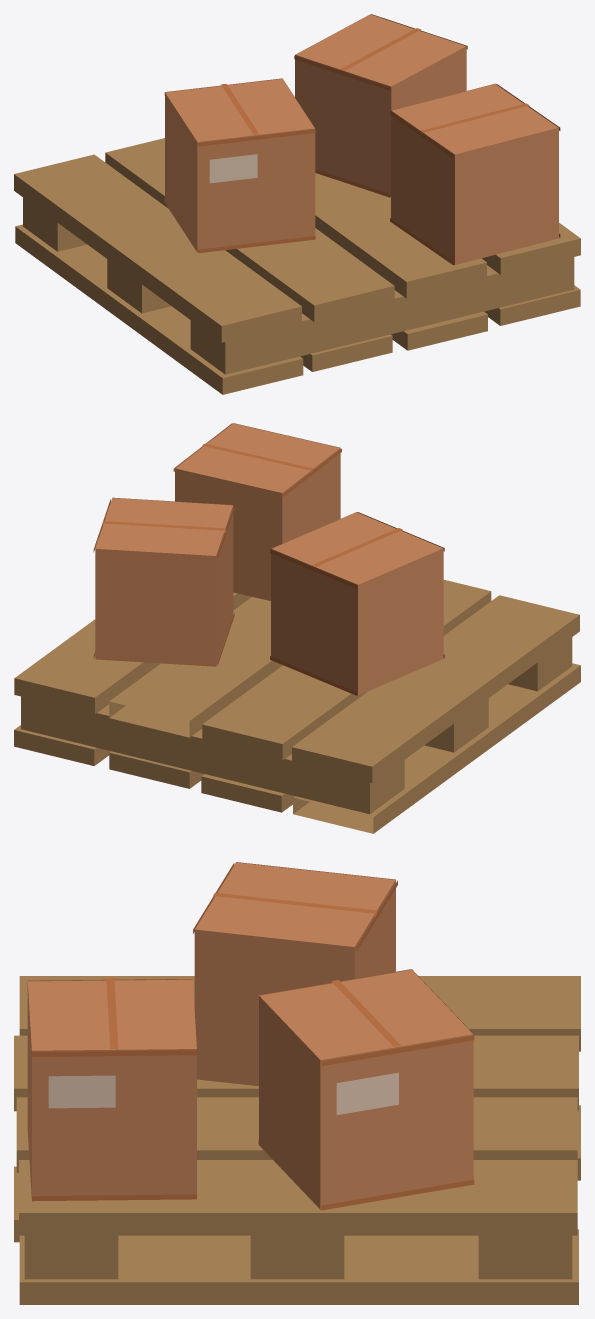
File: SRA_Box_Pallet_01.glb
3 views of the same model, one above another, from view 1: azimuth 30°, elevation 25°; view 2: azimuth 150°, elevation 25°; view 3: azimuth 270°, elevation 25° (orthographic). The views are drawn at different scales.
Visible parts, largest first — view 1: Box_Pallet_01; view 2: Box_Pallet_01; view 3: Box_Pallet_01.
Boxes of the visible parts, x1=… form: Box_Pallet_01: x1=14, y1=14, x2=580, y2=394; Box_Pallet_01: x1=14, y1=423, x2=580, y2=833; Box_Pallet_01: x1=14, y1=862, x2=580, y2=1304.
Bounding box in the file's own units: 0.9506 × 0.4569 × 0.9613.
Materials: 1 (1 with a texture image).
